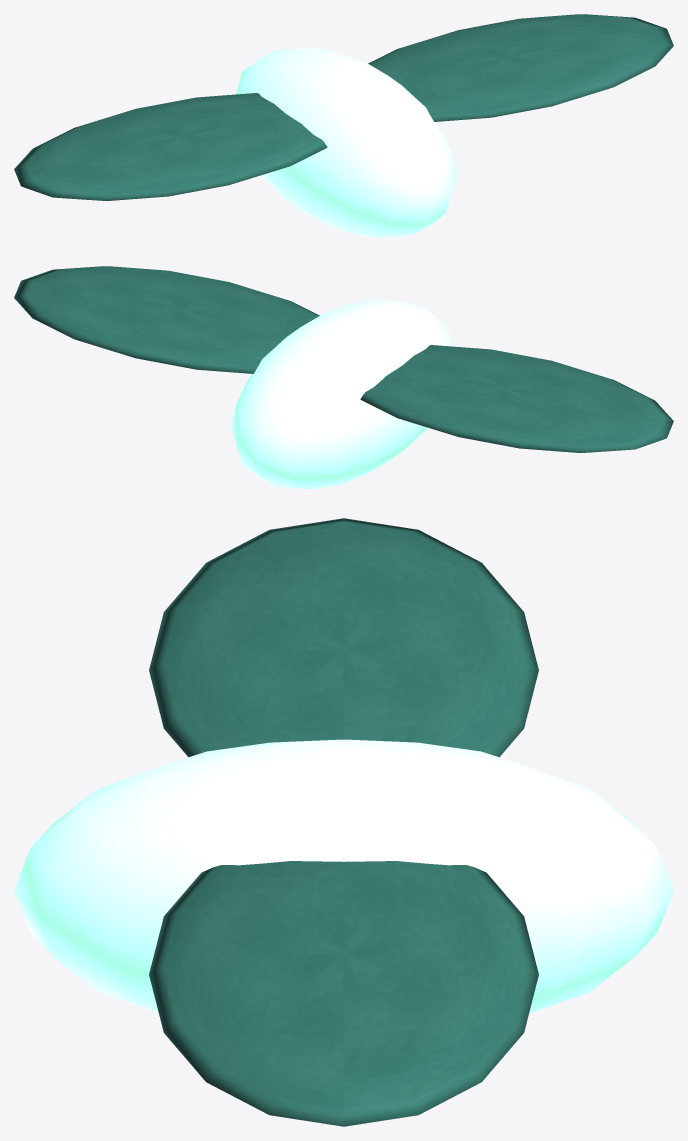
File: firefly.glb
The picture shows the model from 3 angles, top to bottom: view 1: azimuth 30°, elevation 25°; view 2: azimuth 150°, elevation 25°; view 3: azimuth 270°, elevation 25°; orthographic projection. The views are drawn at different scales.
Parts seen in each view (by area): view 1: firefly; view 2: firefly; view 3: firefly.
Part boxes in pixels (box(x1,y1,x2,y2)): firefly: box(14, 14, 673, 237); firefly: box(14, 266, 673, 489); firefly: box(14, 518, 673, 1126).
Size of the model in its own units: 0.96 by 0.2 by 0.44.
2 materials, 2 textured.
